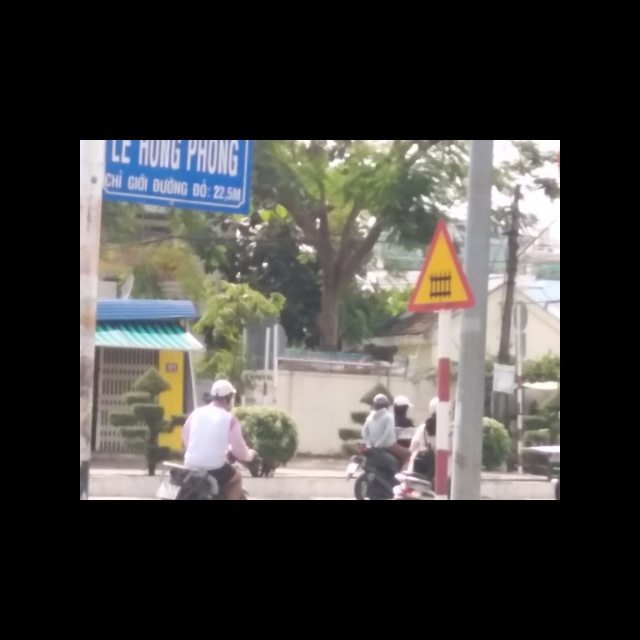Giao nhau với đường sắt có rào chắn: (406, 217, 480, 312)
